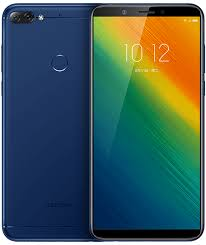lenovo: (86, 1, 202, 242)
